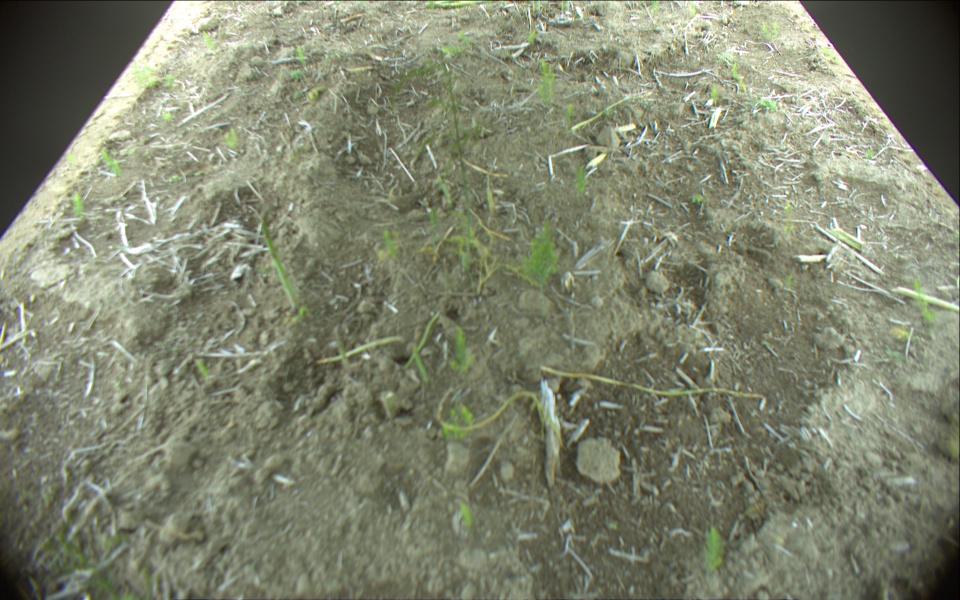aspa: (539, 366, 763, 400), (258, 224, 299, 314), (572, 90, 655, 130), (333, 324, 350, 371), (428, 1, 473, 9)
